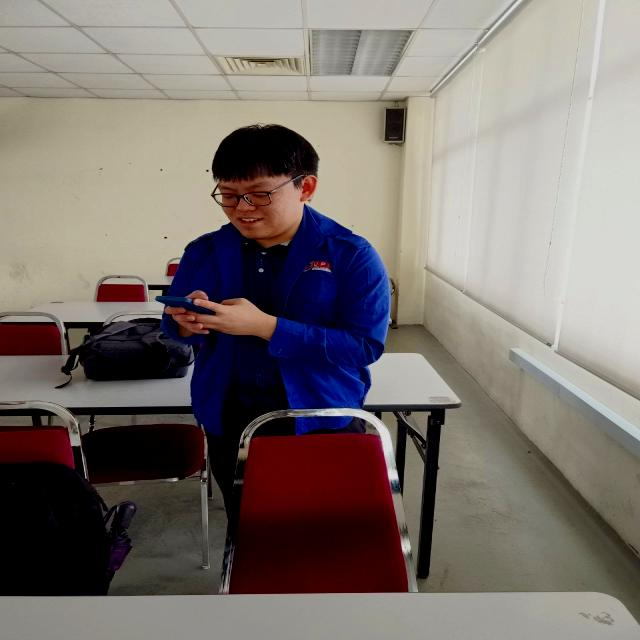person_with_labcoat: (162, 125, 389, 505)
